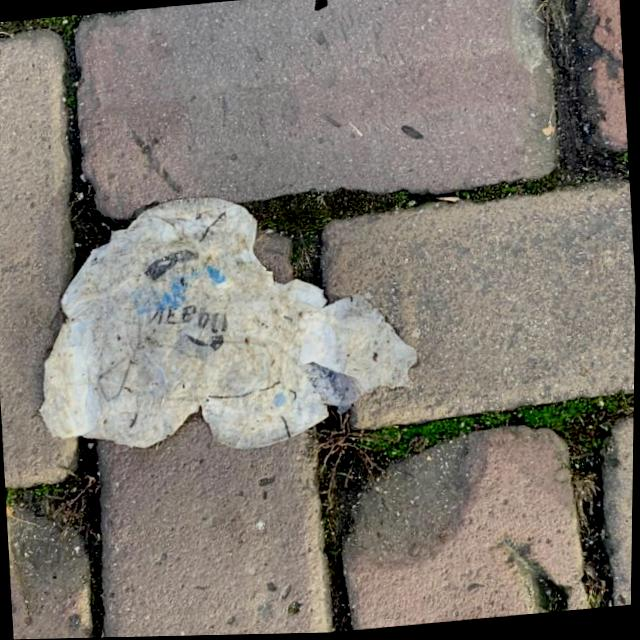Paper: (23, 177, 427, 470)
